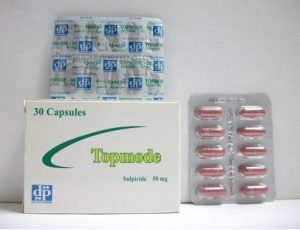Medicine: (22, 100, 181, 215), (49, 16, 165, 101)
